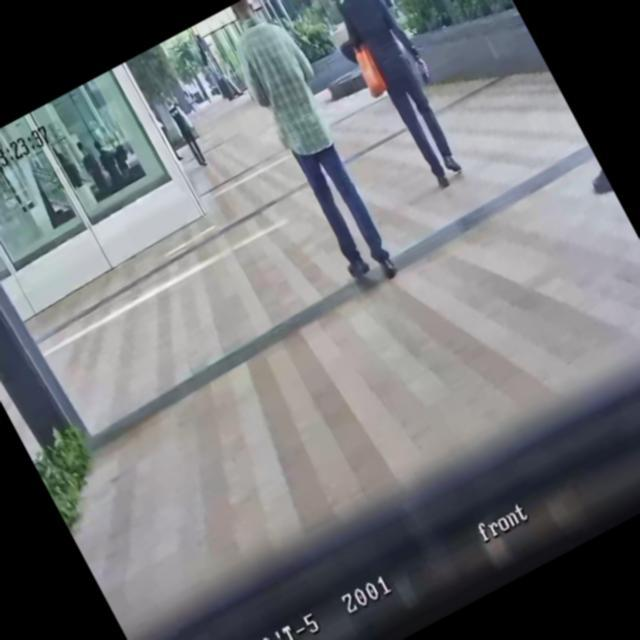person: (209, 0, 416, 293), (308, 0, 481, 196), (161, 90, 213, 168), (72, 138, 112, 196), (89, 132, 128, 188)
